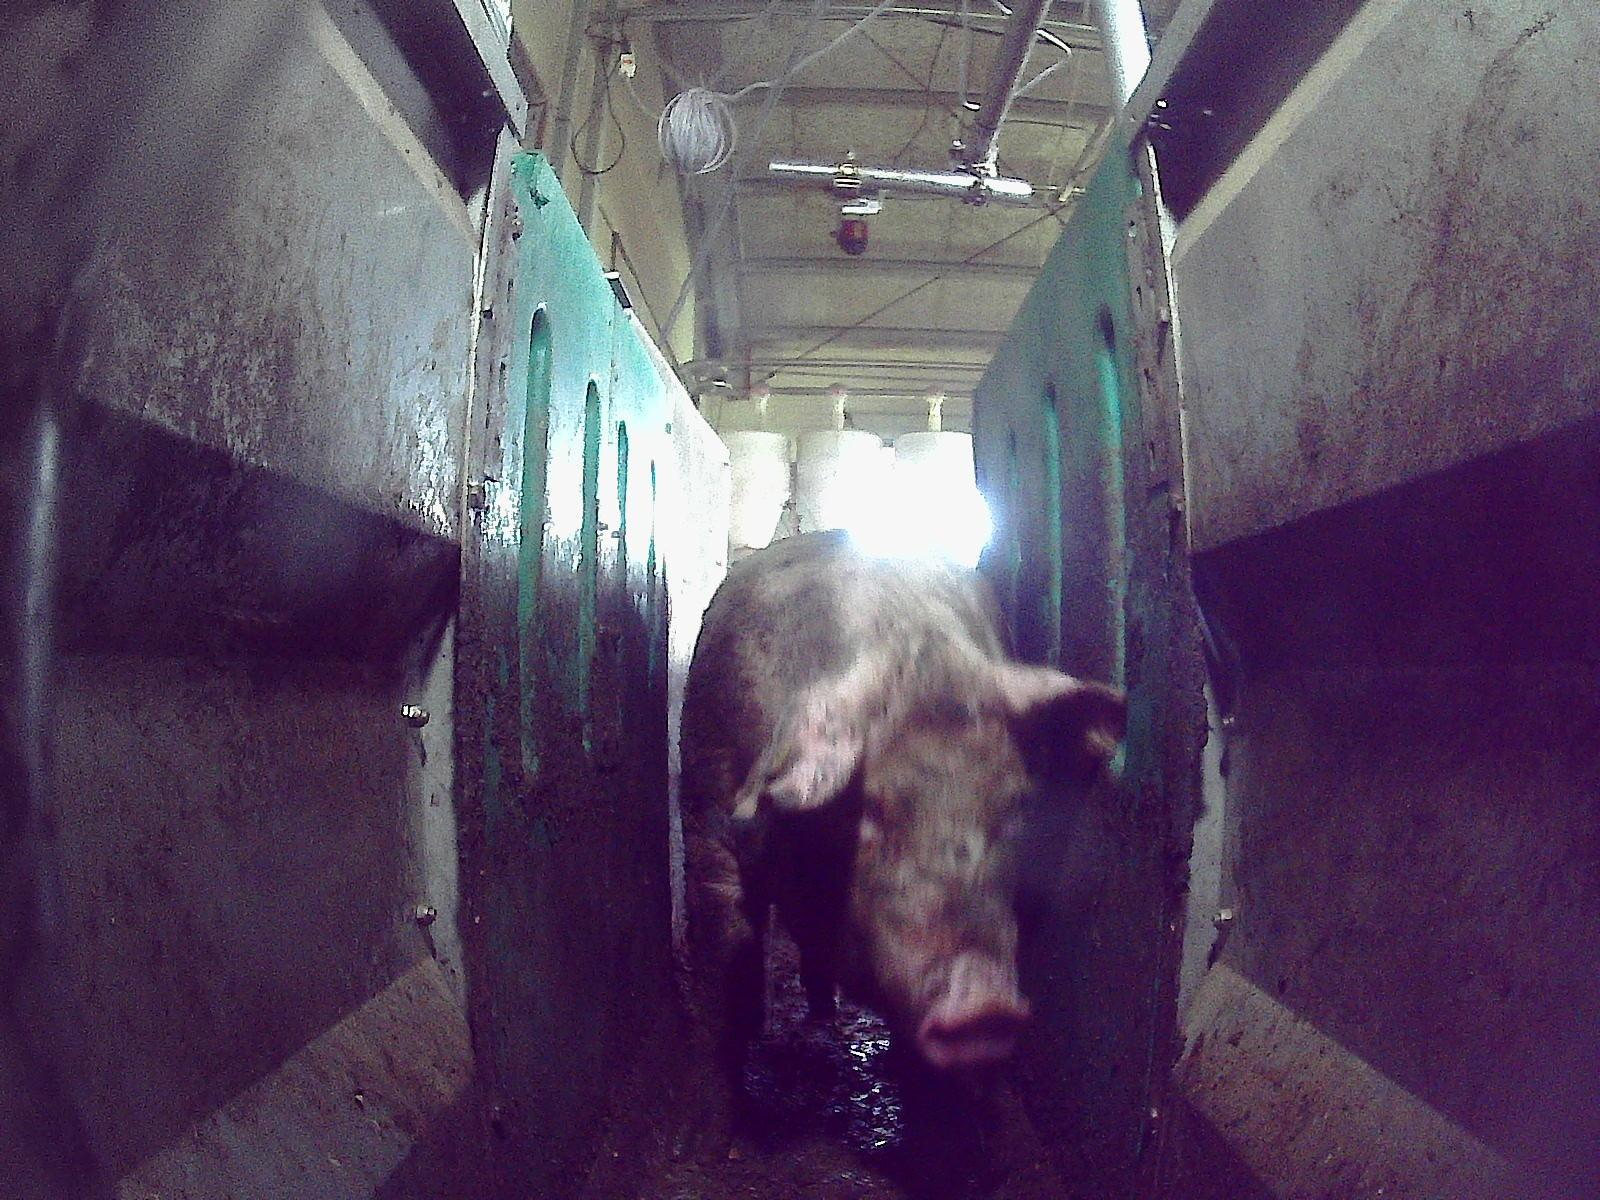Face: (823, 688, 1033, 1062)
